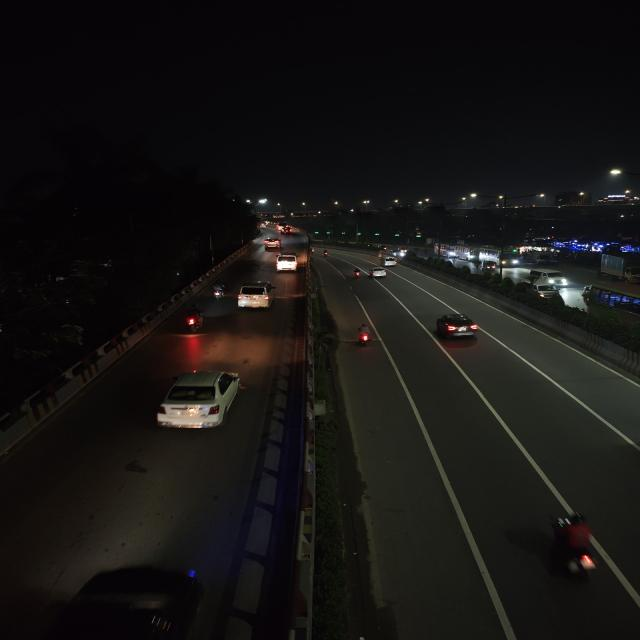bus: (580, 282, 640, 338), (483, 246, 524, 268), (437, 243, 466, 259)
car: (152, 368, 251, 437), (432, 310, 480, 342), (235, 280, 278, 312), (518, 278, 564, 302), (525, 267, 570, 287), (275, 252, 299, 274), (369, 266, 388, 280), (379, 255, 398, 268), (264, 237, 283, 249)
motorcycle: (542, 510, 612, 584), (181, 303, 209, 333), (352, 322, 375, 350), (208, 281, 228, 301), (351, 266, 363, 280), (320, 249, 330, 259)
truck: (598, 252, 640, 284)
